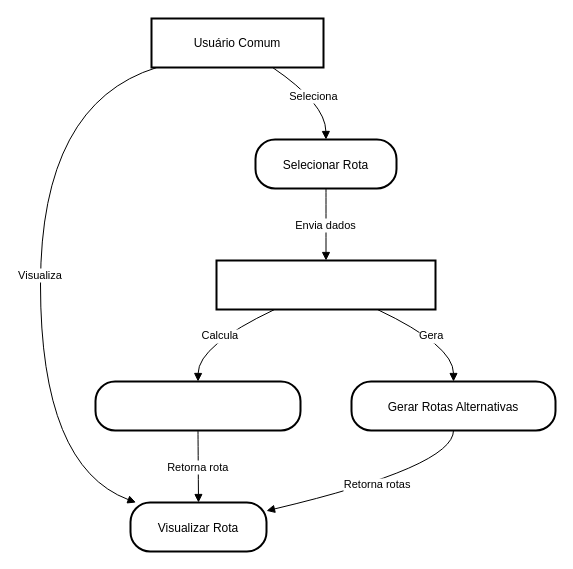
Some shapes in this 573 by 569 pixel diagram are drawn without their labels. Each missing label, with the centre of its shape:
"Calcular Rota Mais Curta" goes at point 197,405.
"Sistema de Navegação" goes at point 325,284.
